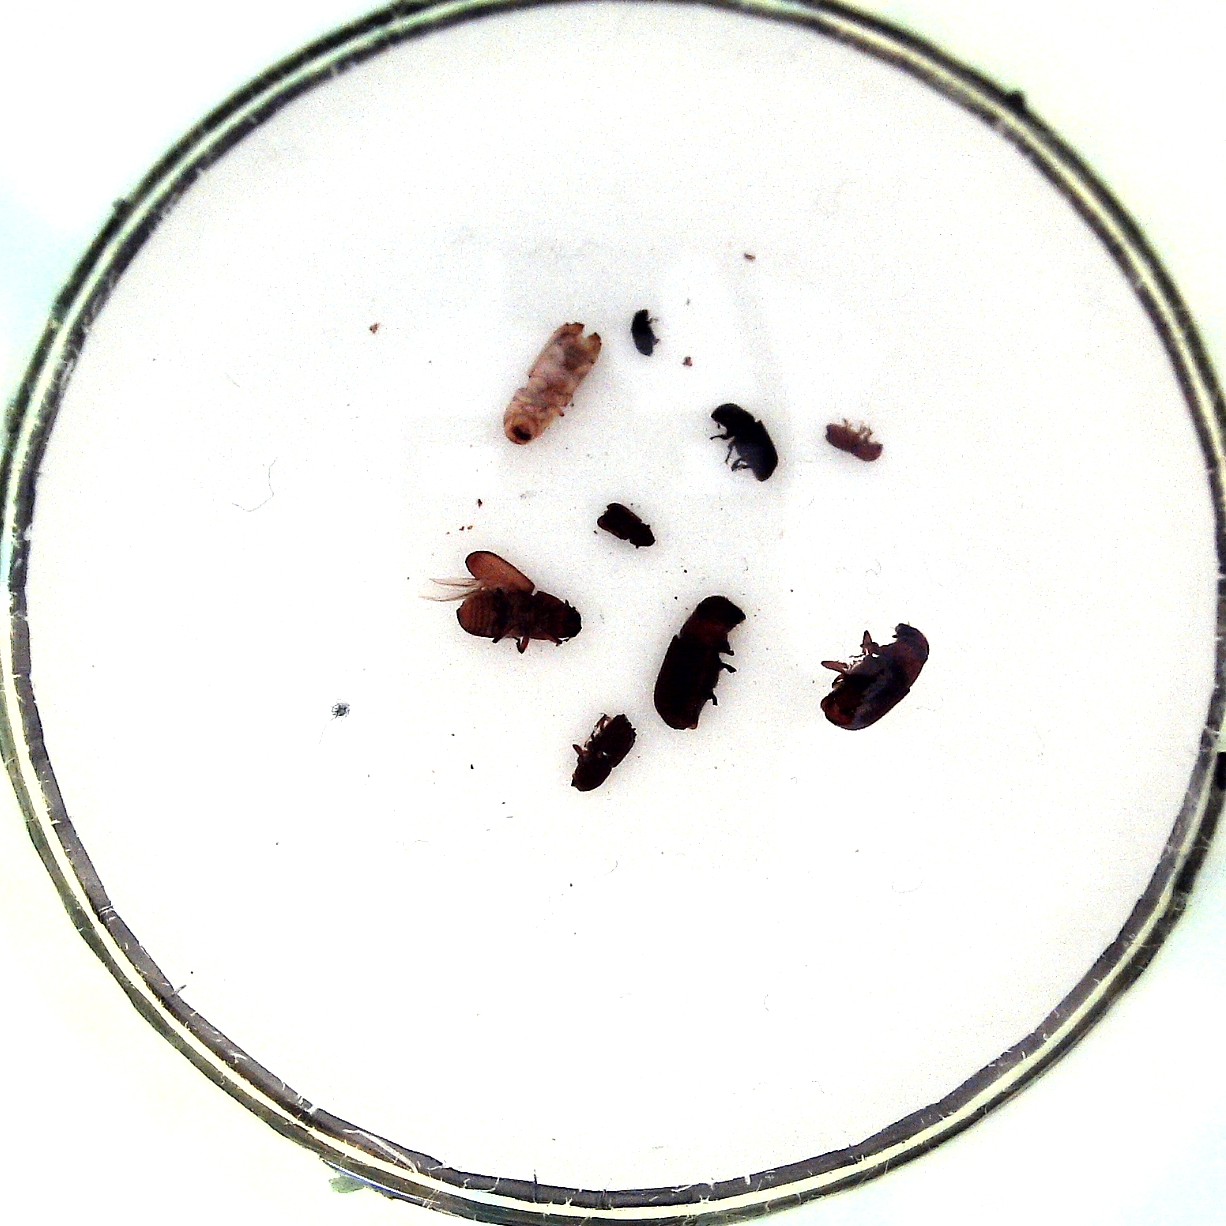Boerner: (498, 314, 605, 452)
Leconte: (418, 545, 589, 657), (809, 616, 941, 736), (649, 591, 749, 741)
Linnaeus: (559, 711, 640, 795)
acuminatus: (818, 414, 890, 468)
armandi: (707, 397, 787, 486)
coleoptera: (594, 498, 659, 555), (625, 304, 669, 359)
